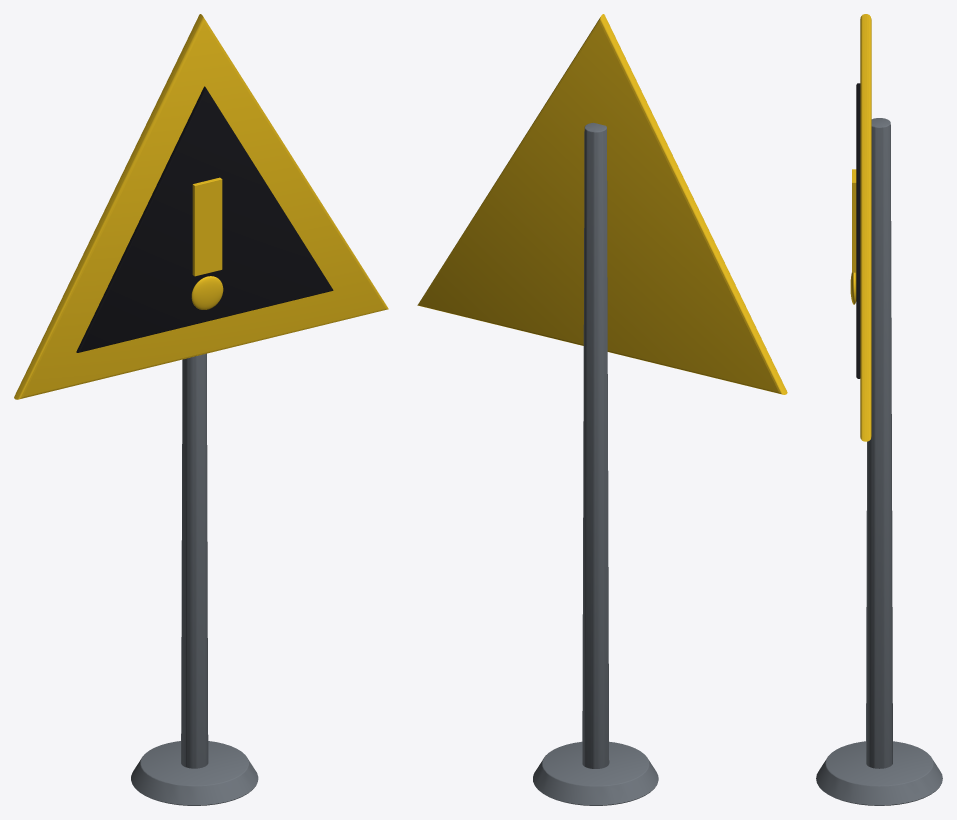
The model's file is warning_sign.glb.
3 renders of one model, left to right at view 1: azimuth 30°, elevation 25°; view 2: azimuth 150°, elevation 25°; view 3: azimuth 270°, elevation 25°, orthographic.
Visible parts, largest first — view 1: board, inner, post, base, bar, dot; view 2: board, post, base; view 3: post, base, board, inner, bar.
Part boxes in pixels (<box>): board: <box>14,14,388,399</box>; inner: <box>76,86,333,352</box>; post: <box>181,353,208,768</box>; base: <box>131,741,258,805</box>; bar: <box>192,177,222,276</box>; dot: <box>191,276,223,309</box>; board: <box>417,14,787,394</box>; post: <box>582,122,609,768</box>; base: <box>533,741,658,805</box>; post: <box>866,118,892,768</box>; base: <box>816,741,942,805</box>; board: <box>860,14,871,441</box>; inner: <box>856,83,860,378</box>; bar: <box>852,169,856,272</box>.
Bounding box in the file's own units: 0.9445 × 1.86 × 0.28.
